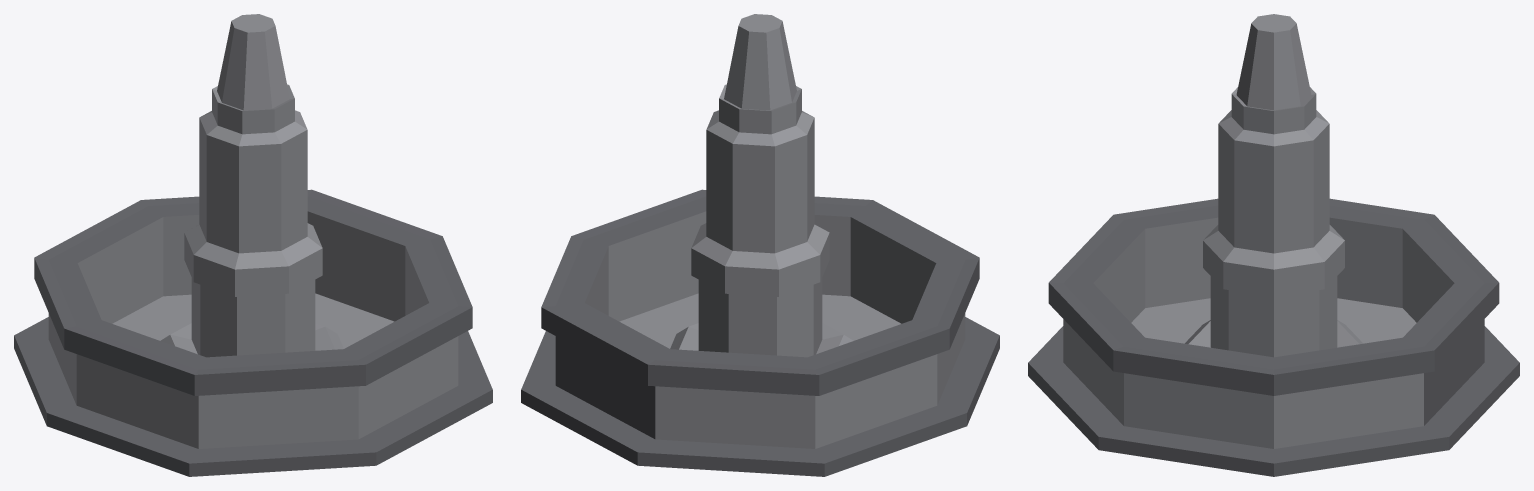
File: model_fountain.fbx
3 renders of one model, left to right at view 1: azimuth 30°, elevation 25°; view 2: azimuth 150°, elevation 25°; view 3: azimuth 270°, elevation 25°, orthographic.
Parts seen in each view (by area): view 1: pCube1; view 2: pCube1; view 3: pCube1.
Part boxes in pixels (x1,y1,x2,y2): pCube1: (14,14,492,476); pCube1: (521,14,999,476); pCube1: (1028,14,1519,476).
Bounding box in the file's own units: 2.49 × 2.03 × 2.57.
